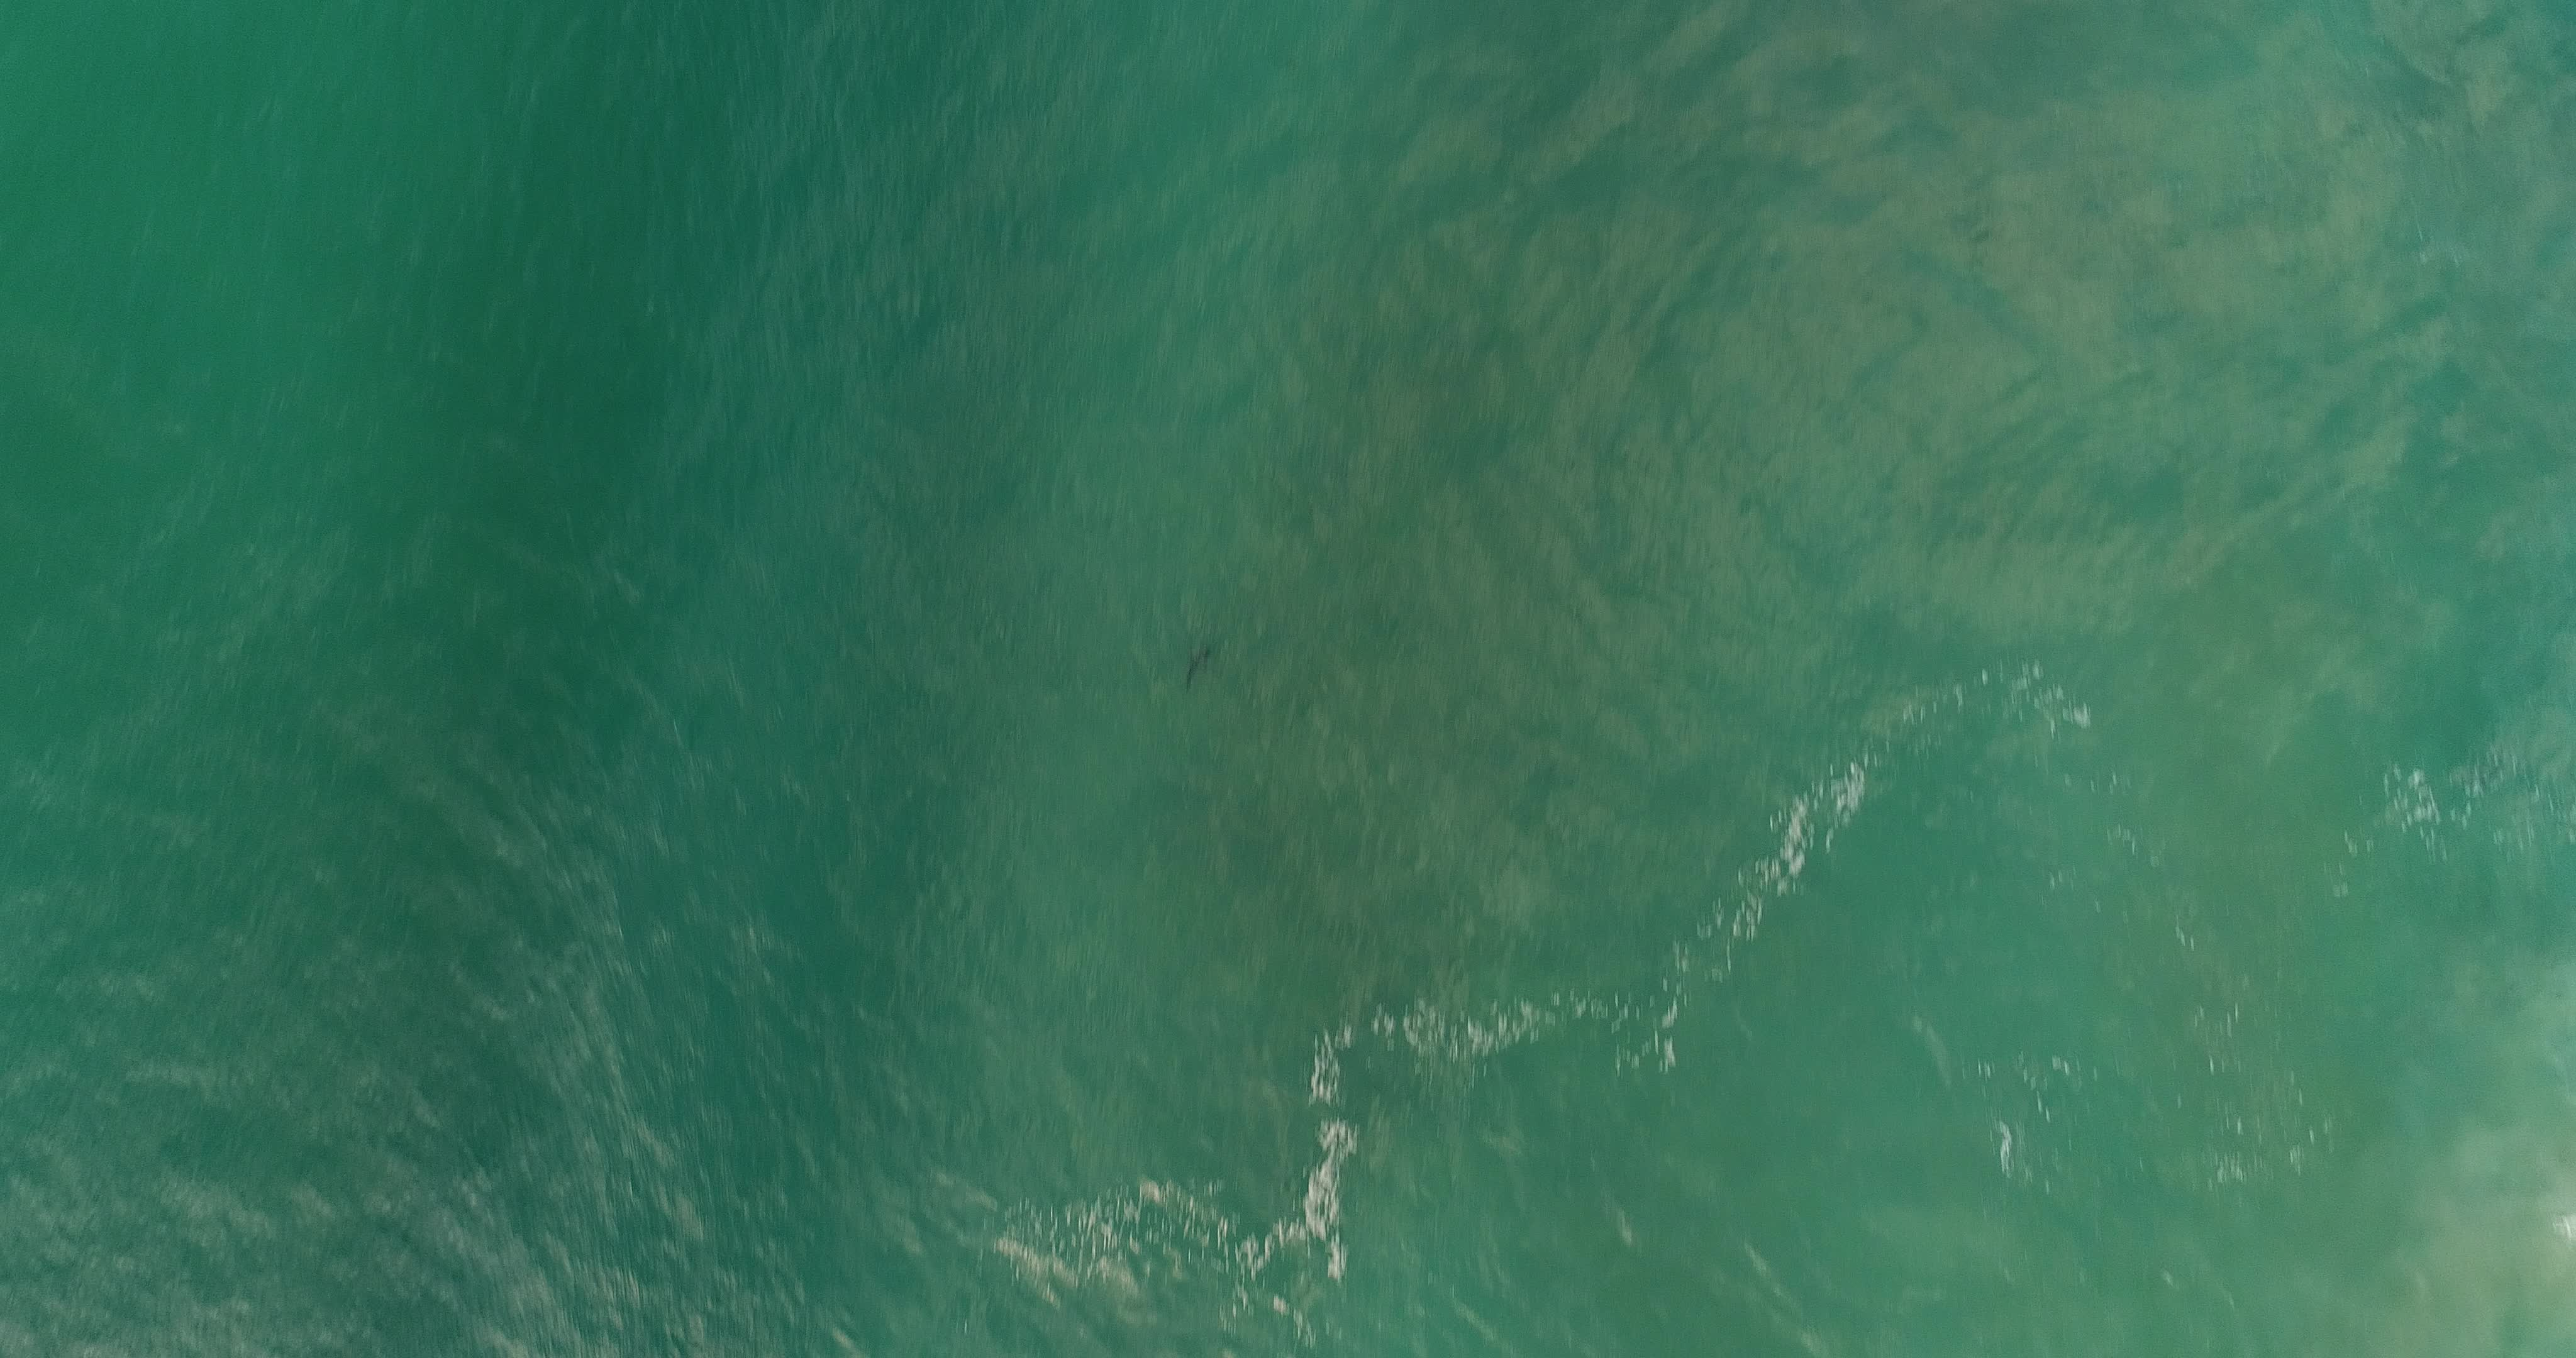shark: (1181, 641, 1216, 688)
